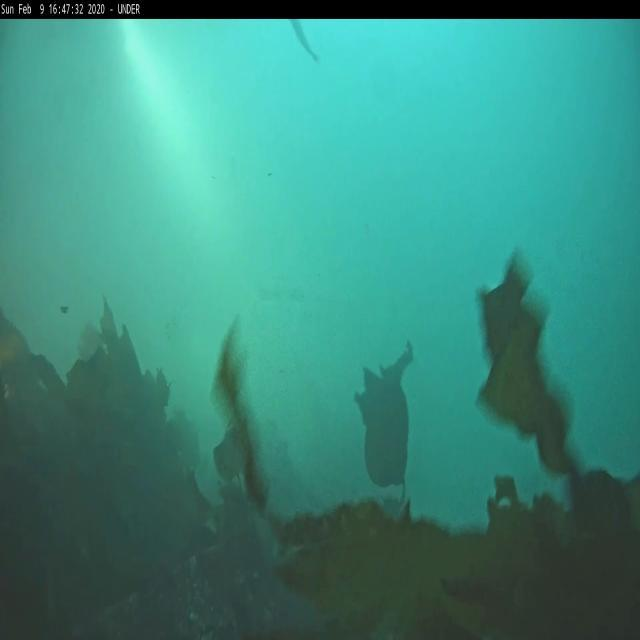fish: (288, 21, 322, 67)
